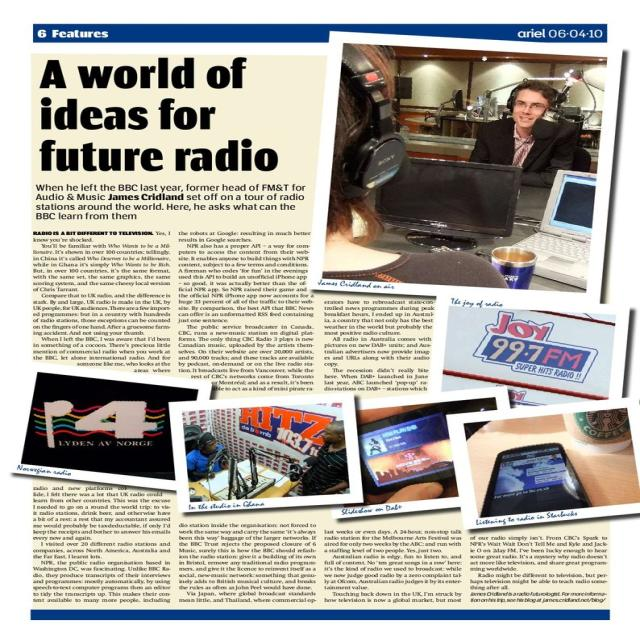Mobile-phone: (360, 401, 495, 498), (481, 440, 592, 517)
